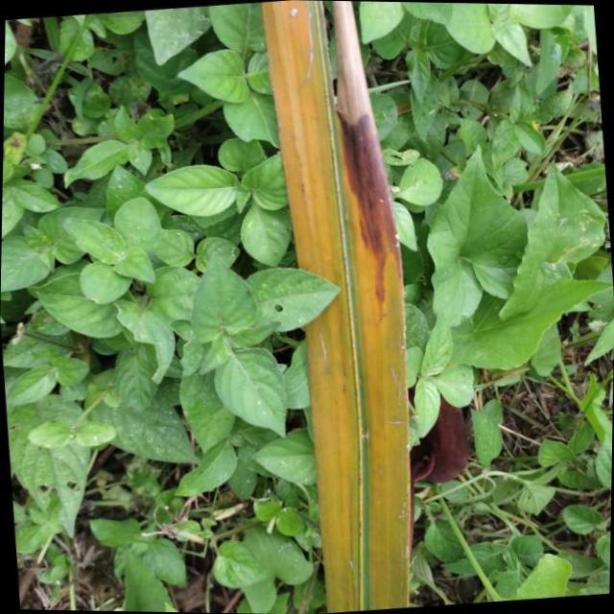Megnesium: (259, 0, 413, 614)
